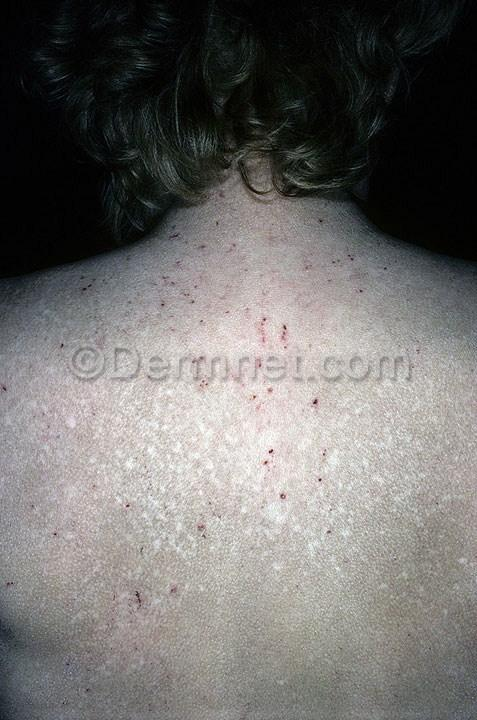Eczema: (210, 382, 395, 550), (74, 474, 193, 650), (204, 248, 350, 340), (93, 244, 203, 331), (341, 249, 444, 341), (7, 479, 68, 615)
